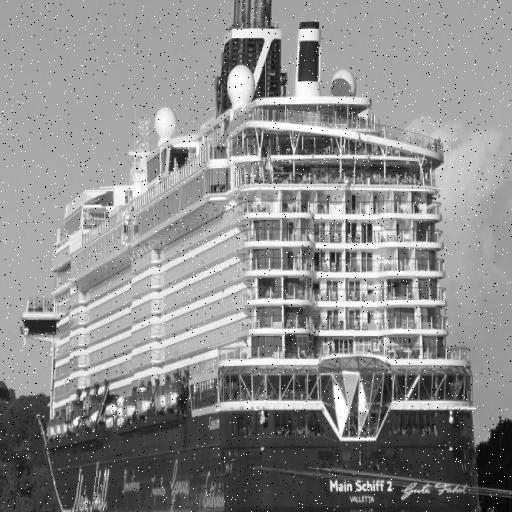cruises: (18, 1, 485, 512)
